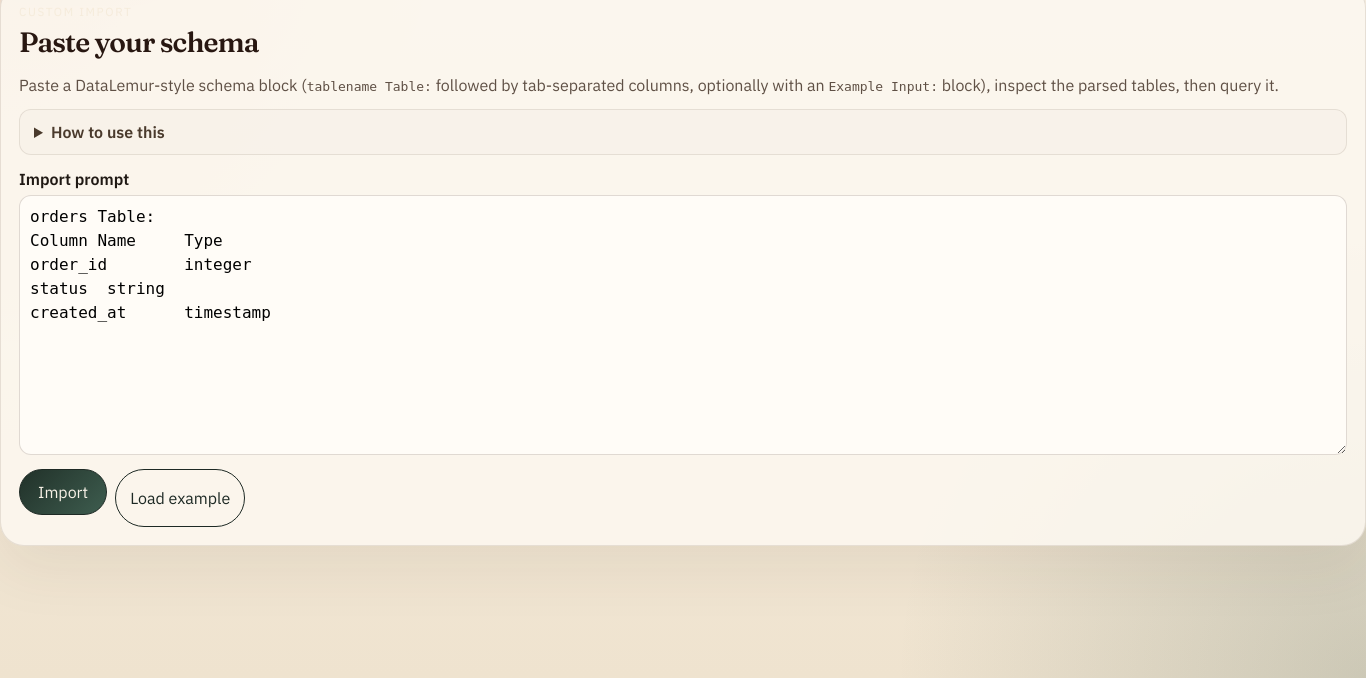
Test case: SqlPlaygroundApp › generates sample rows for schema-only imports before loading DuckDB
This screenshot has width=1366, height=678.
Click the button "Import" at [63, 492], box x1=19 y1=468 x2=107 y2=514
(page scrolled)
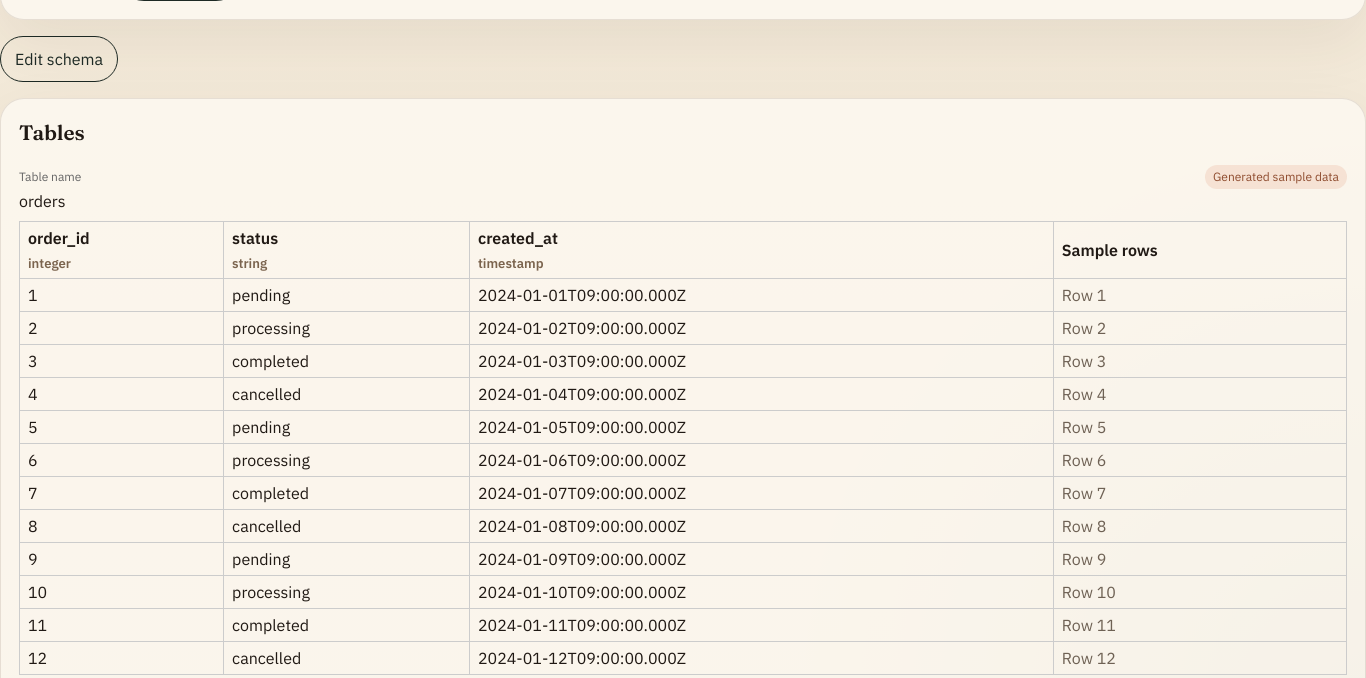
Expected: the heading "Tables" is shown, x1=19 y1=120 x2=85 y2=144
Expected: the text "Generated sample data" is shown, x1=1205 y1=165 x2=1347 y2=189
Expected: the text "processing" in the row of "2024-01-02T09:00:00.000Z" is shown, x1=232 y1=318 x2=310 y2=338
